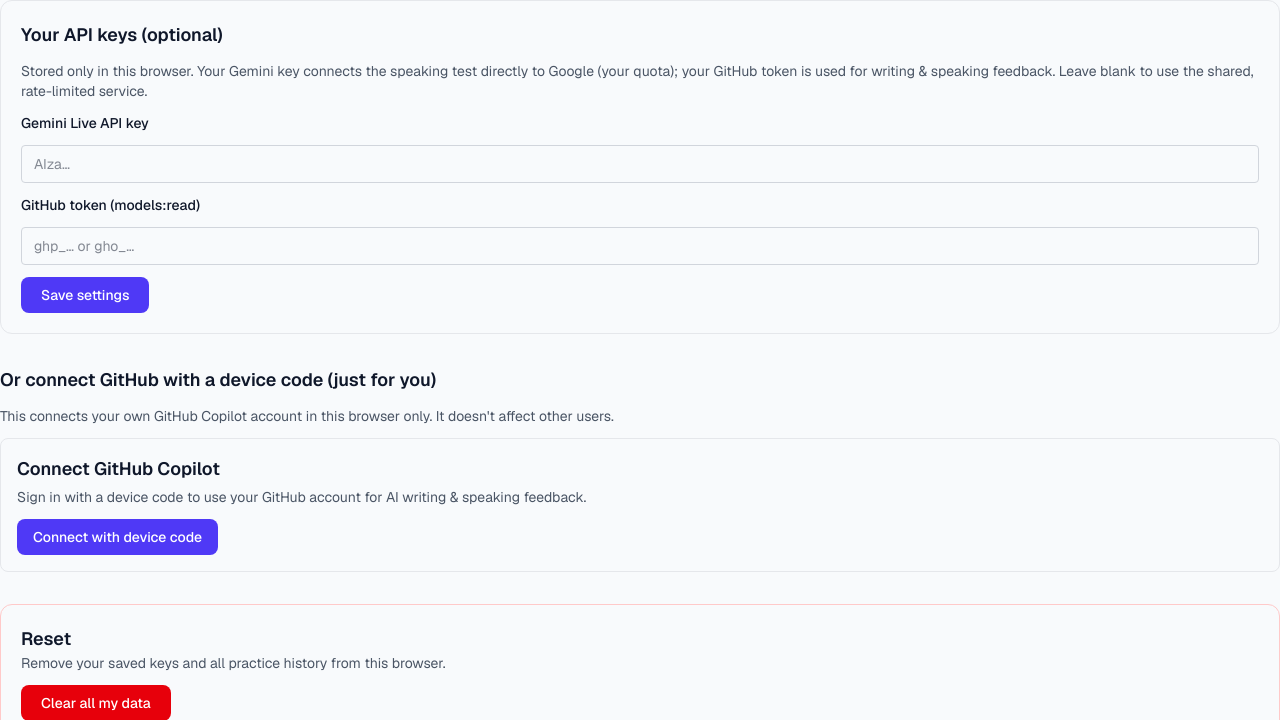
Test: SettingsForm › shows a confirmation message after clearing data
Step 1. Click the button "Clear all my data" → [96, 703], box [21, 685, 171, 719]
(page scrolled)
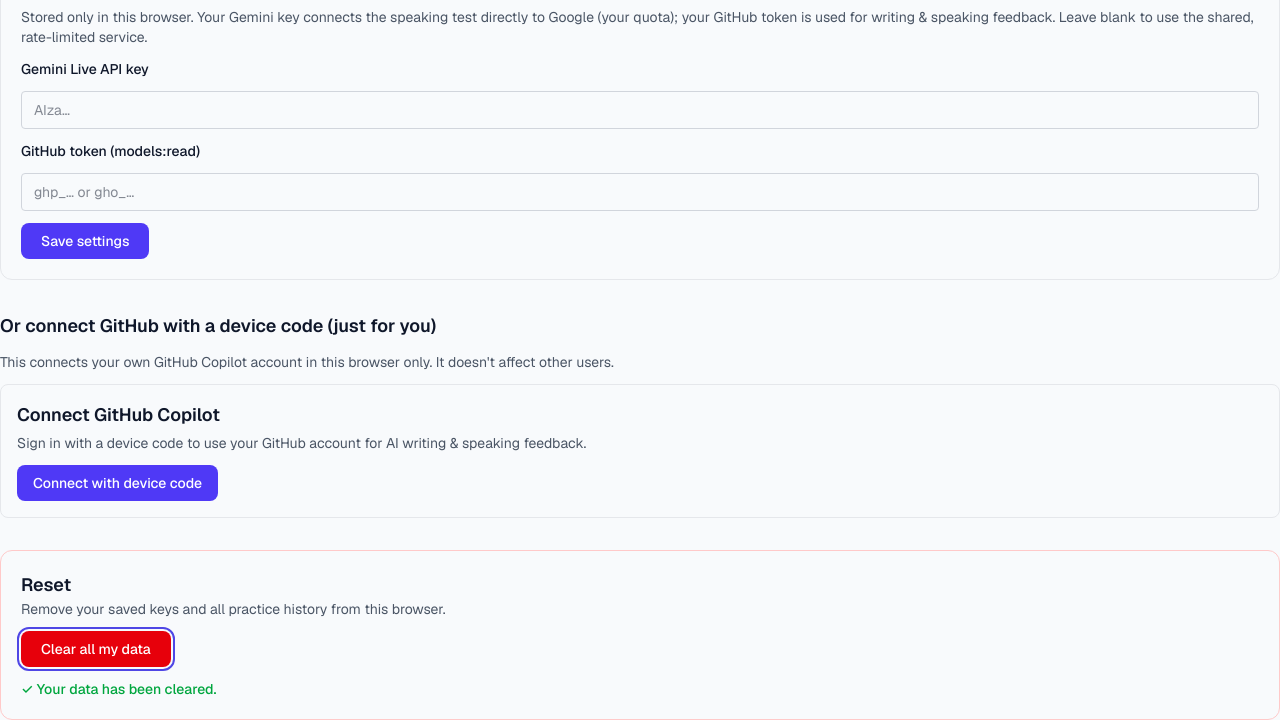
Now the text "✓ Your data has been cleared." is shown, box [21, 680, 217, 698]
